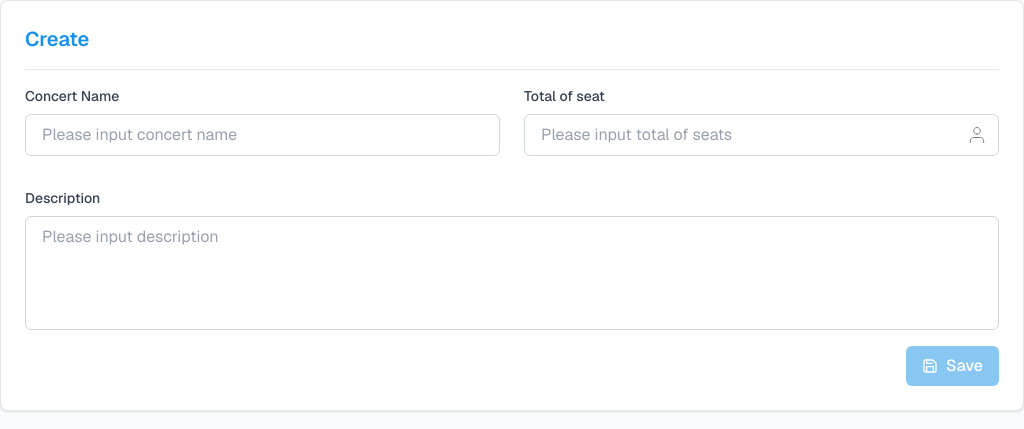
CreateCard › enables Save button when all fields are filled
The width and height of the screenshot is (1024, 429).
In the field with placeholder "Please input concert name": {"x": 262, "y": 135} 25,114 -> 500,156, type "Test Concert"
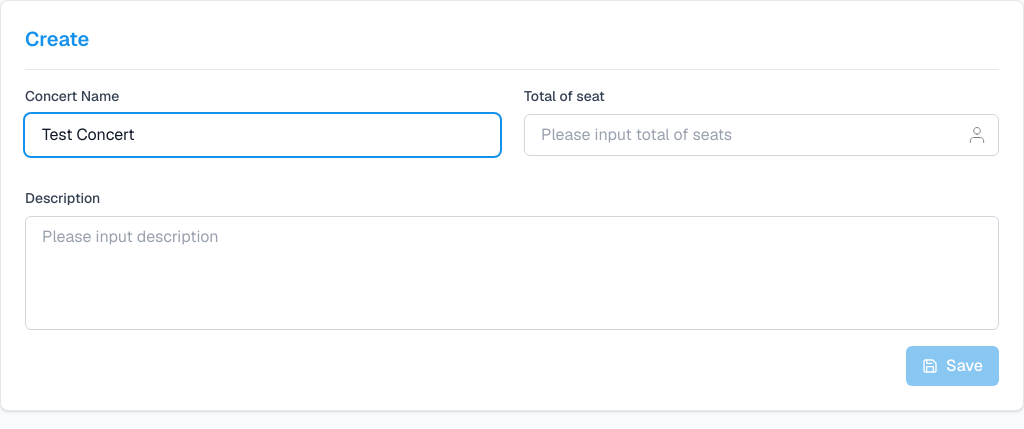
In the number field with placeholder "Please input total of seats": {"x": 762, "y": 135} 524,114 -> 999,156, type "100"
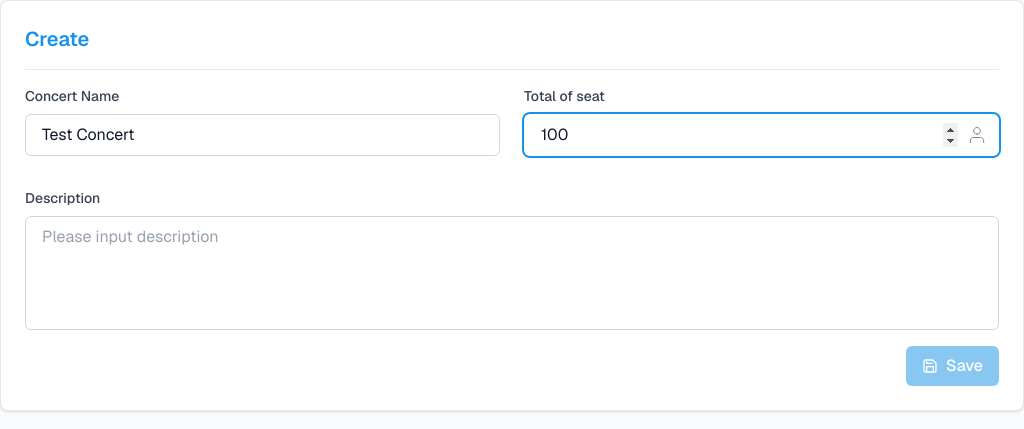
In the text box with placeholder "Please input description": {"x": 512, "y": 273} 25,216 -> 999,330, type "Test description"
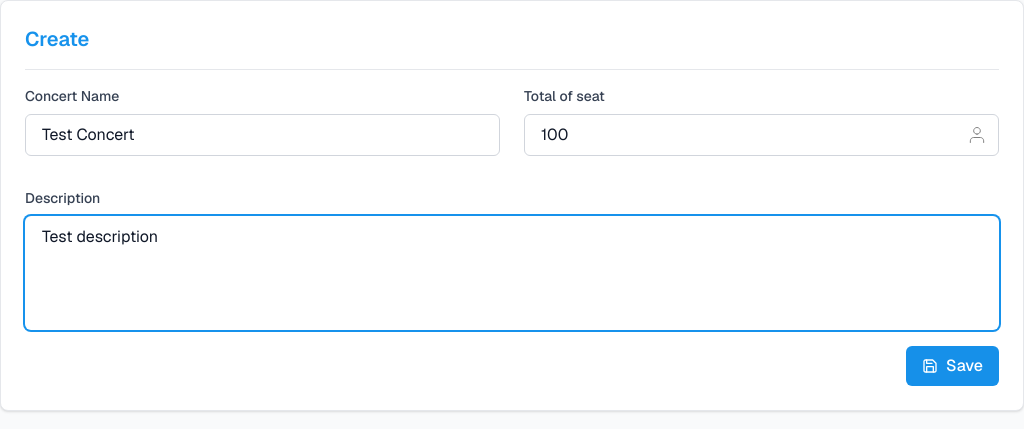
expect the button "Save" is enabled: met, box 906,346 -> 999,386
